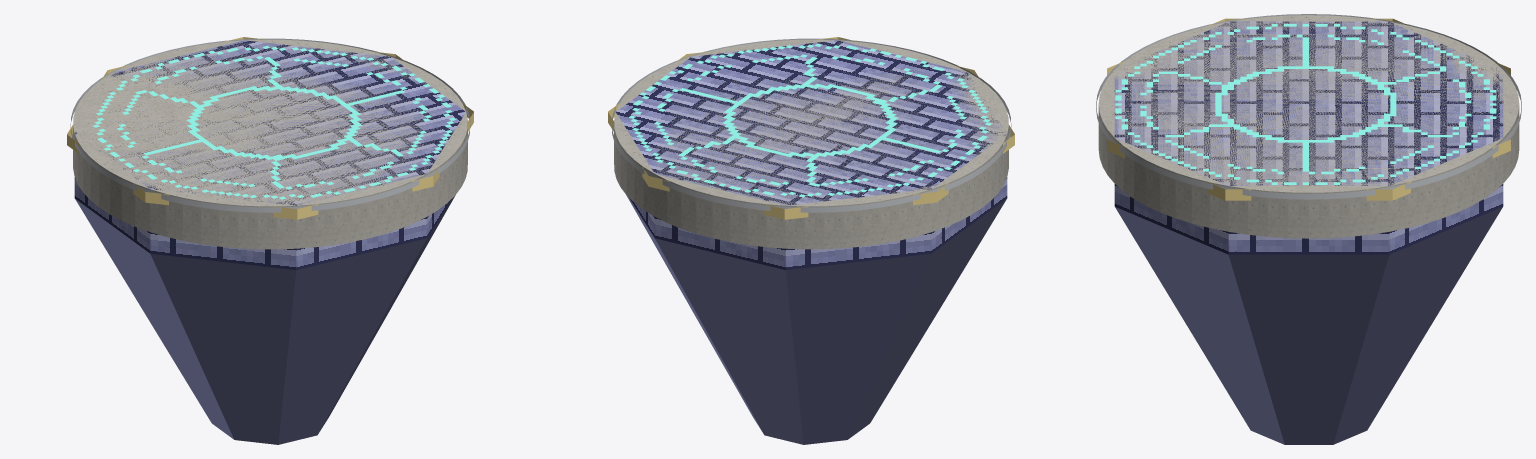
File: pedestals.glb
3 renders of one model, left to right at view 1: azimuth 30°, elevation 25°; view 2: azimuth 150°, elevation 25°; view 3: azimuth 270°, elevation 25°, orthographic. The views are drawn at different scales.
Visible parts, largest first — view 1: pedestal__fantasy, pedestal__realistic; view 2: pedestal__fantasy, pedestal__realistic; view 3: pedestal__fantasy, pedestal__realistic.
Boxes of the visible parts, box(x1,y1,x2,y2) form: pedestal__fantasy: box(67, 37, 473, 444); pedestal__realistic: box(70, 38, 470, 249); pedestal__fantasy: box(608, 37, 1014, 444); pedestal__realistic: box(611, 38, 1011, 249); pedestal__fantasy: box(1107, 18, 1510, 444); pedestal__realistic: box(1096, 14, 1521, 238).
Size of the model in its own units: 2.02 by 1.66 by 2.02.
6 materials, 3 textured.
